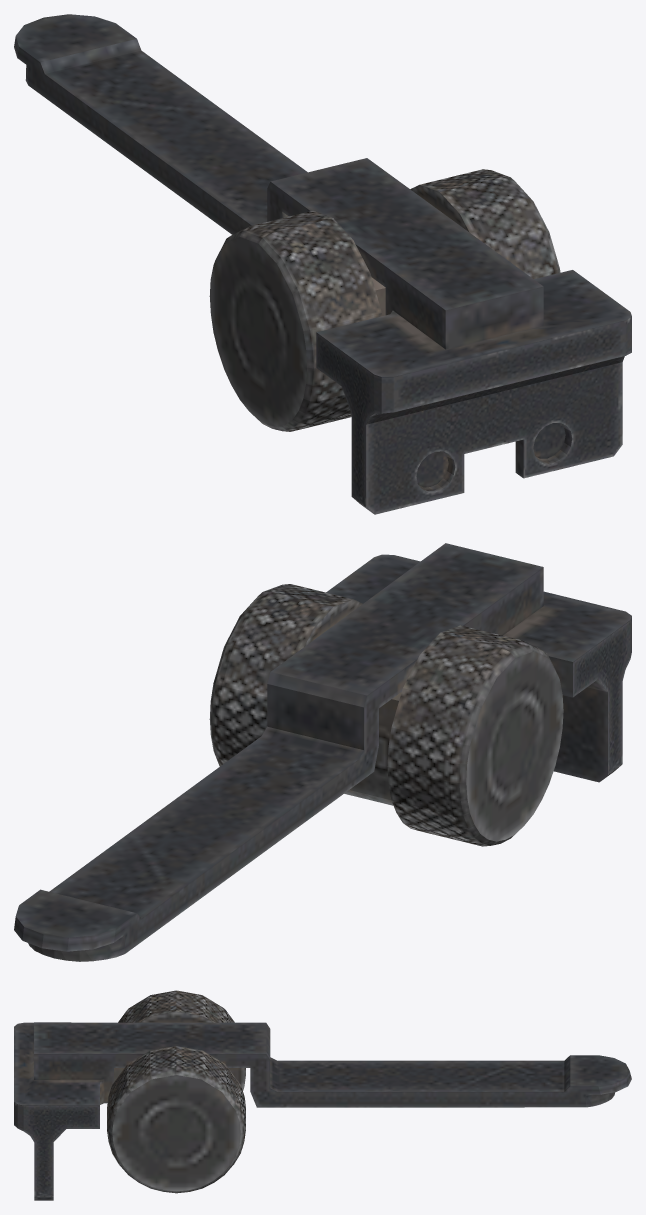
The picture shows the model from 3 angles, top to bottom: view 1: azimuth 30°, elevation 25°; view 2: azimuth 150°, elevation 25°; view 3: azimuth 270°, elevation 25°; orthographic projection. The views are drawn at different scales.
Visible parts, largest first — view 1: TW_5aba639ed8ce8700182ece67_PZ_Import; view 2: TW_5aba639ed8ce8700182ece67_PZ_Import; view 3: TW_5aba639ed8ce8700182ece67_PZ_Import.
Boxes of the visible parts, x1,y1,x2,y2 form: TW_5aba639ed8ce8700182ece67_PZ_Import: (14,14,631,514); TW_5aba639ed8ce8700182ece67_PZ_Import: (14,543,631,961); TW_5aba639ed8ce8700182ece67_PZ_Import: (14,990,631,1200).
Bounding box in the file's own units: 0.00815 × 0.0258 × 0.00613.
1 material, 1 textured.
